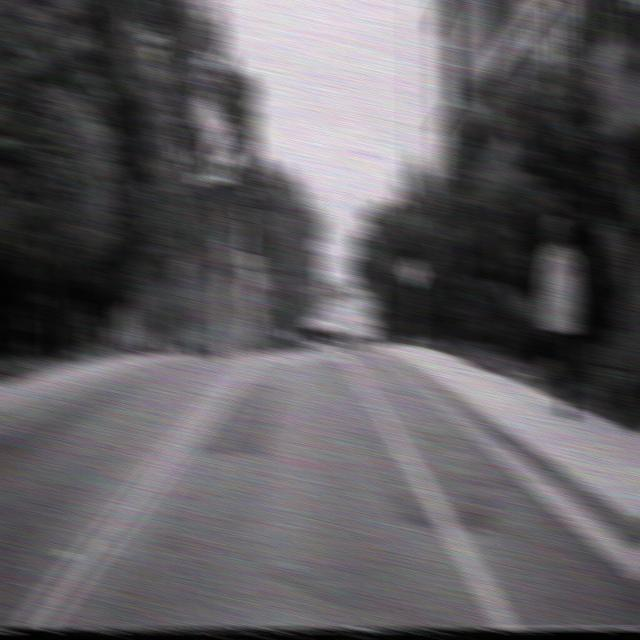pedestrianCrossing: (402, 254, 426, 290)
